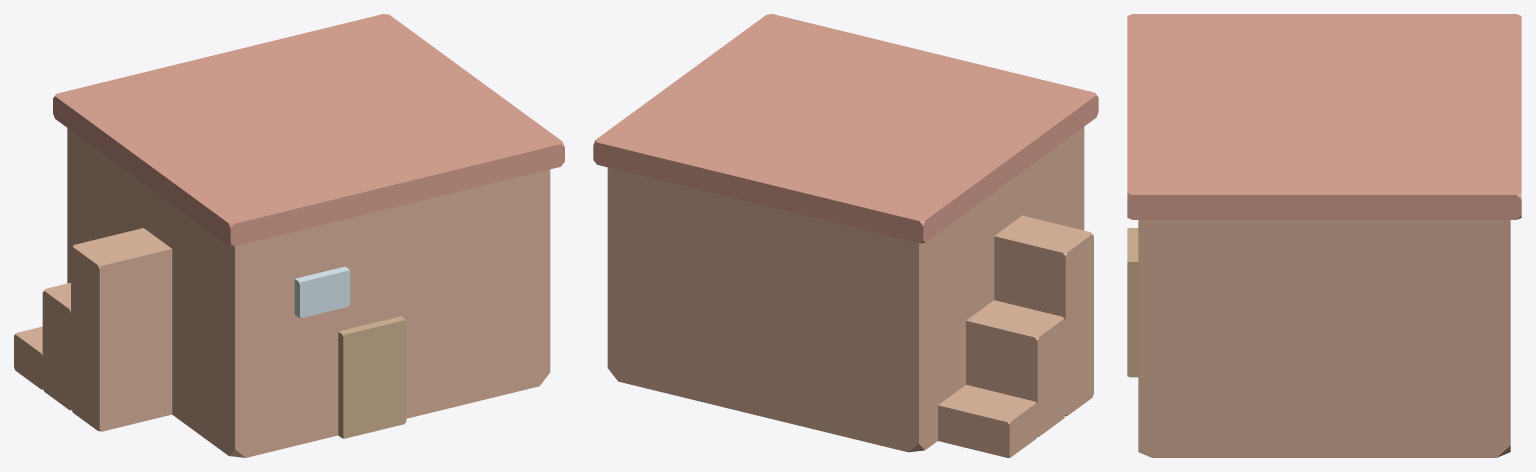
File: house_c.glb
3 renders of one model, left to right at view 1: azimuth 30°, elevation 25°; view 2: azimuth 150°, elevation 25°; view 3: azimuth 270°, elevation 25°, orthographic. The views are drawn at different scales.
Parts seen in each view (by area): view 1: body_m0, body_m1, body_m6, body_m2, body_m5, body_m3, body_m4; view 2: body_m0, body_m1, body_m6, body_m5, body_m4; view 3: body_m0, body_m1, body_m2.
Part boxes in pixels (bbox=[...]): body_m0: bbox=[67, 128, 550, 457]; body_m1: bbox=[53, 14, 564, 246]; body_m6: bbox=[71, 228, 172, 431]; body_m2: bbox=[338, 316, 406, 438]; body_m5: bbox=[42, 282, 71, 410]; body_m3: bbox=[294, 266, 350, 317]; body_m4: bbox=[14, 326, 43, 389]; body_m0: bbox=[607, 127, 1084, 452]; body_m1: bbox=[593, 14, 1098, 243]; body_m6: bbox=[994, 215, 1093, 416]; body_m5: bbox=[966, 300, 1065, 436]; body_m4: bbox=[938, 384, 1037, 457]; body_m0: bbox=[1138, 220, 1510, 457]; body_m1: bbox=[1127, 14, 1521, 219]; body_m2: bbox=[1127, 228, 1138, 377].
Size of the model in its own units: 2.77 by 1.61 by 2.15.
